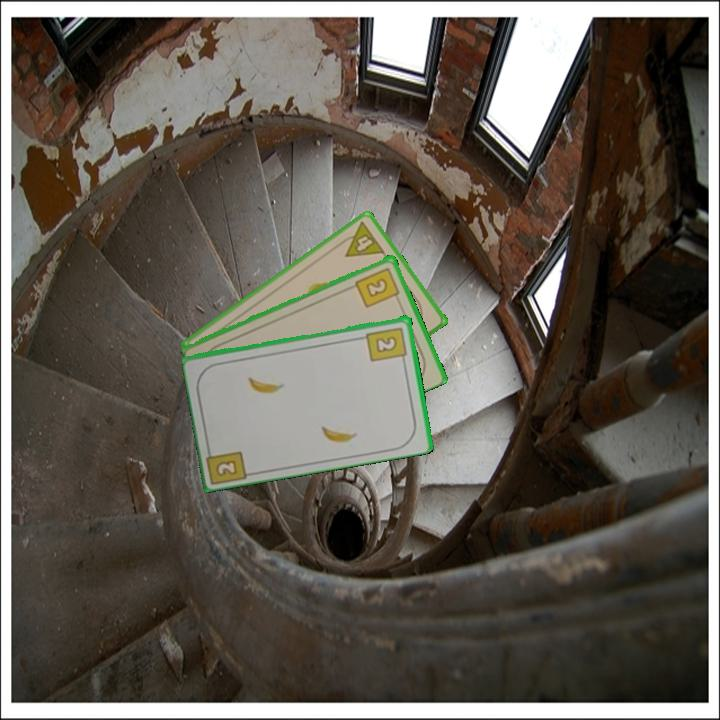2b: (352, 264, 403, 310), (363, 323, 410, 365), (212, 456, 241, 479)
4p: (334, 218, 388, 260)
